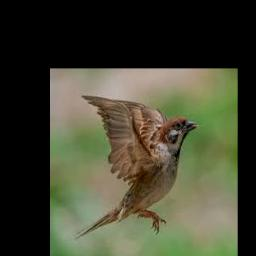Sparrow: (74, 95, 200, 238)
